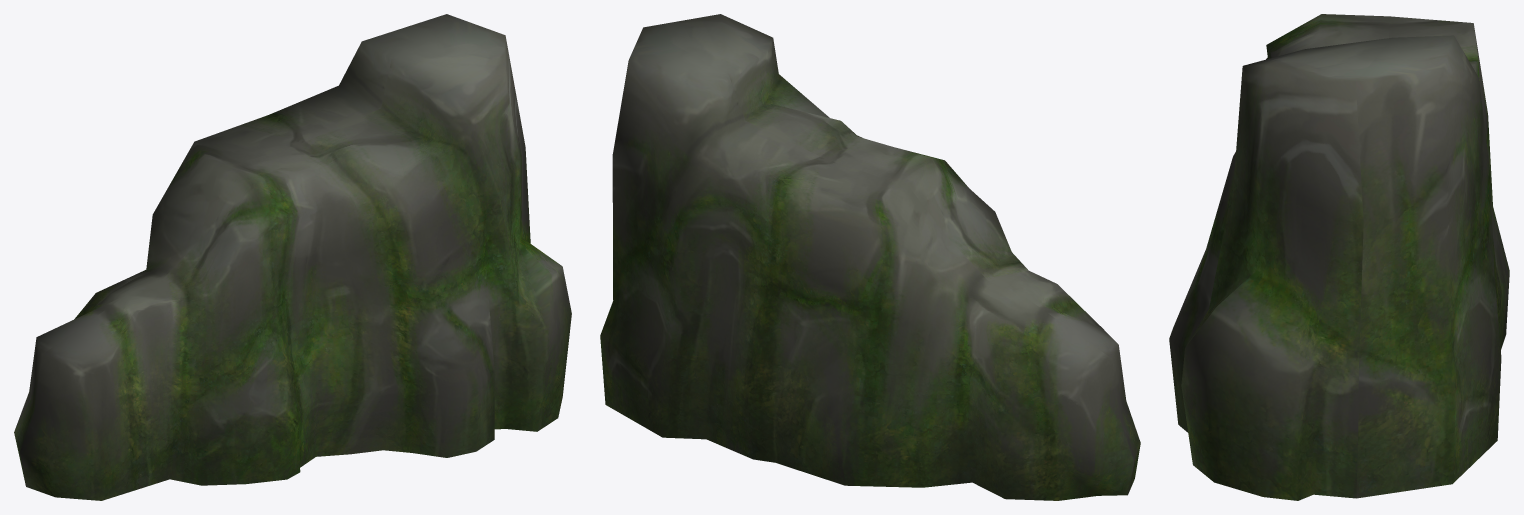
File: Stage_CaoYuan_ShanShi07.FBX
3 renders of one model, left to right at view 1: azimuth 30°, elevation 25°; view 2: azimuth 150°, elevation 25°; view 3: azimuth 270°, elevation 25°, orthographic. The views are drawn at different scales.
Parts seen in each view (by area): view 1: Stage_CaoYuan_ShanShi07; view 2: Stage_CaoYuan_ShanShi07; view 3: Stage_CaoYuan_ShanShi07.
Part boxes in pixels (x1,y1,x2,y2): Stage_CaoYuan_ShanShi07: (14,14,571,500); Stage_CaoYuan_ShanShi07: (600,14,1140,500); Stage_CaoYuan_ShanShi07: (1169,14,1509,500).
Size of the model in its own units: 1369 by 864 by 660.
